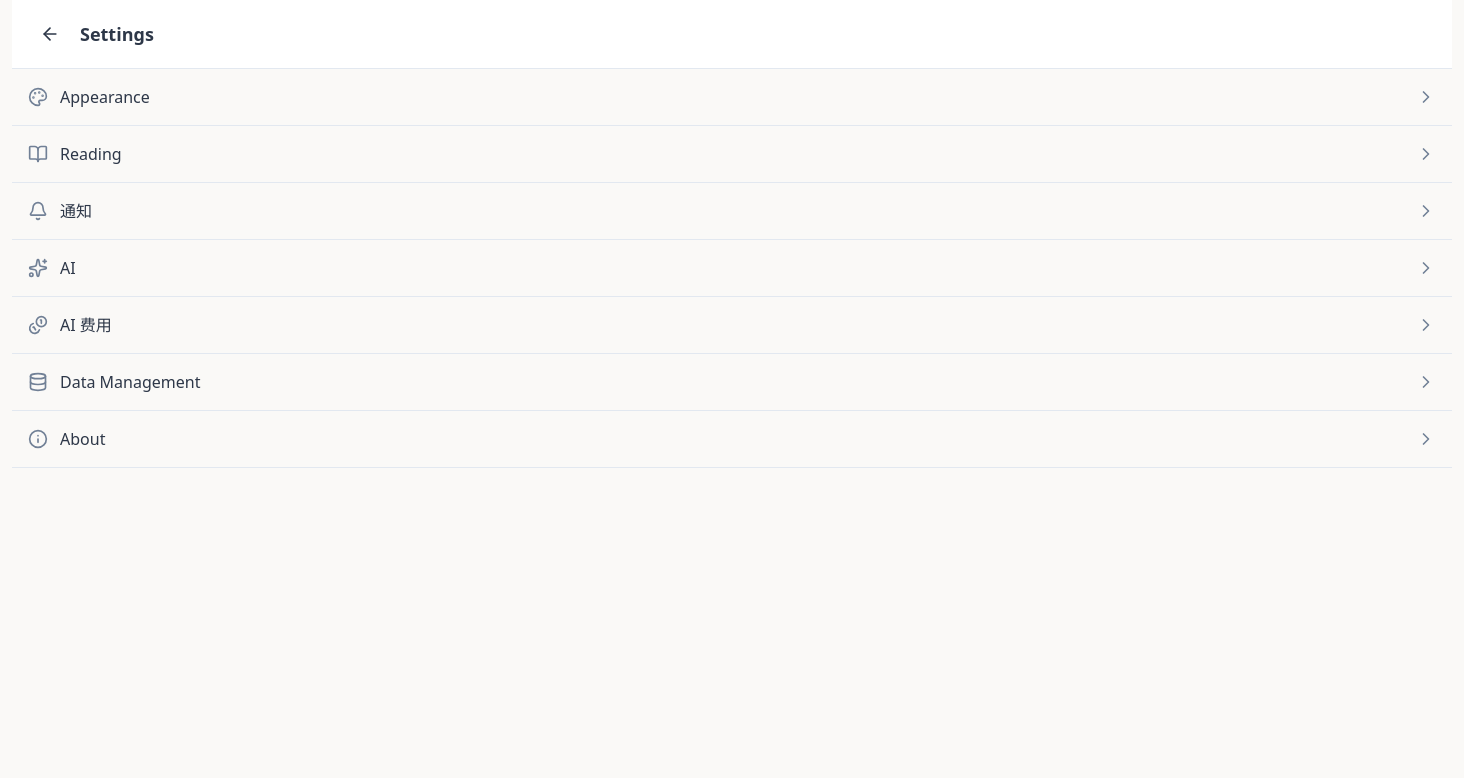
Test case: MobileSettingsPanel › Settings Groups (Accordion) › should expand accordion when clicking on collapsed group
Click to expand
Click the button "Appearance". click: coordinates (105, 97)
box: [12,69,1452,125]
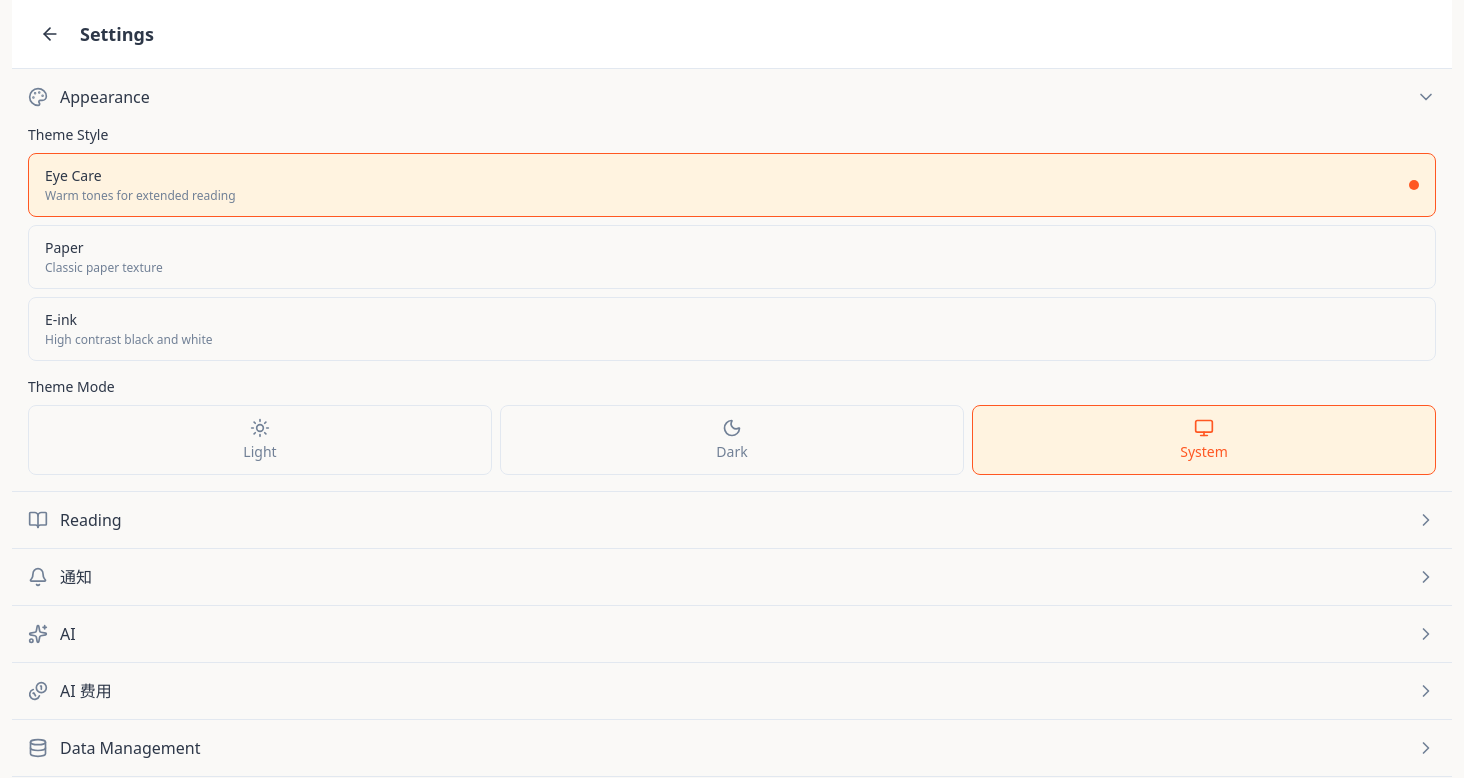
expect the heading "Theme Style" is shown: met, box [28,125,108,144]
